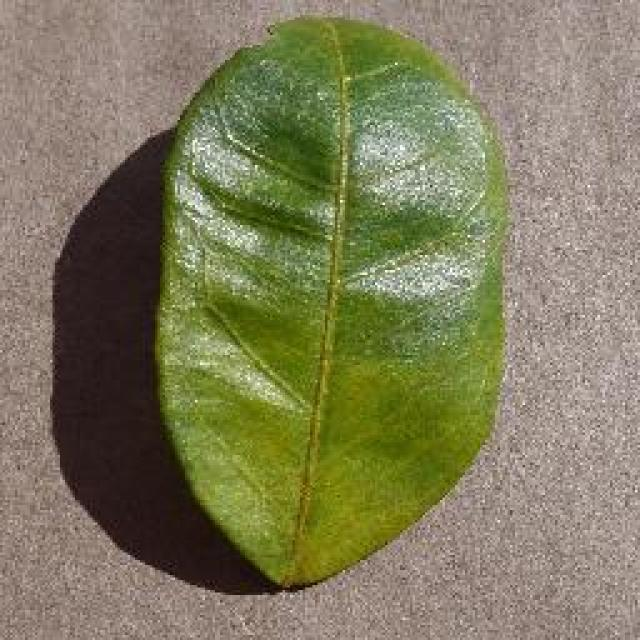Orange_Haunglongbing_Citrus_greening: (174, 61, 464, 546)
